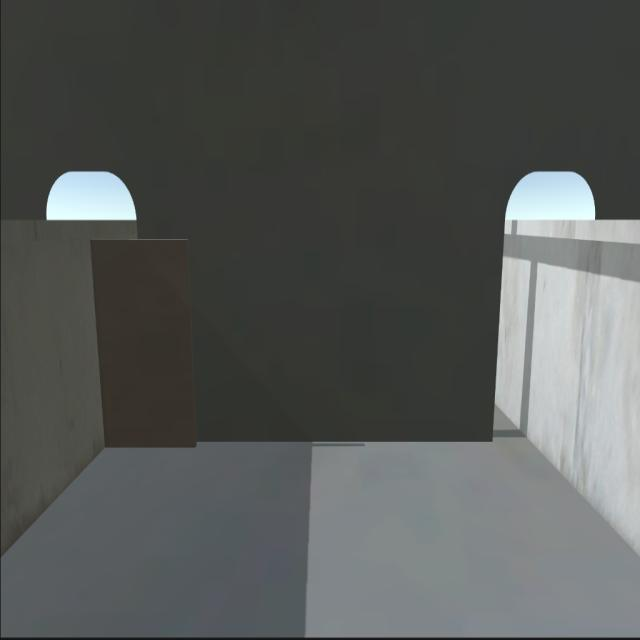fillet_yong_jeop_jang: (106, 434, 492, 454)
longi_yong_jeop_jang: (87, 243, 113, 452)
plate_CP01: (90, 240, 195, 444)
